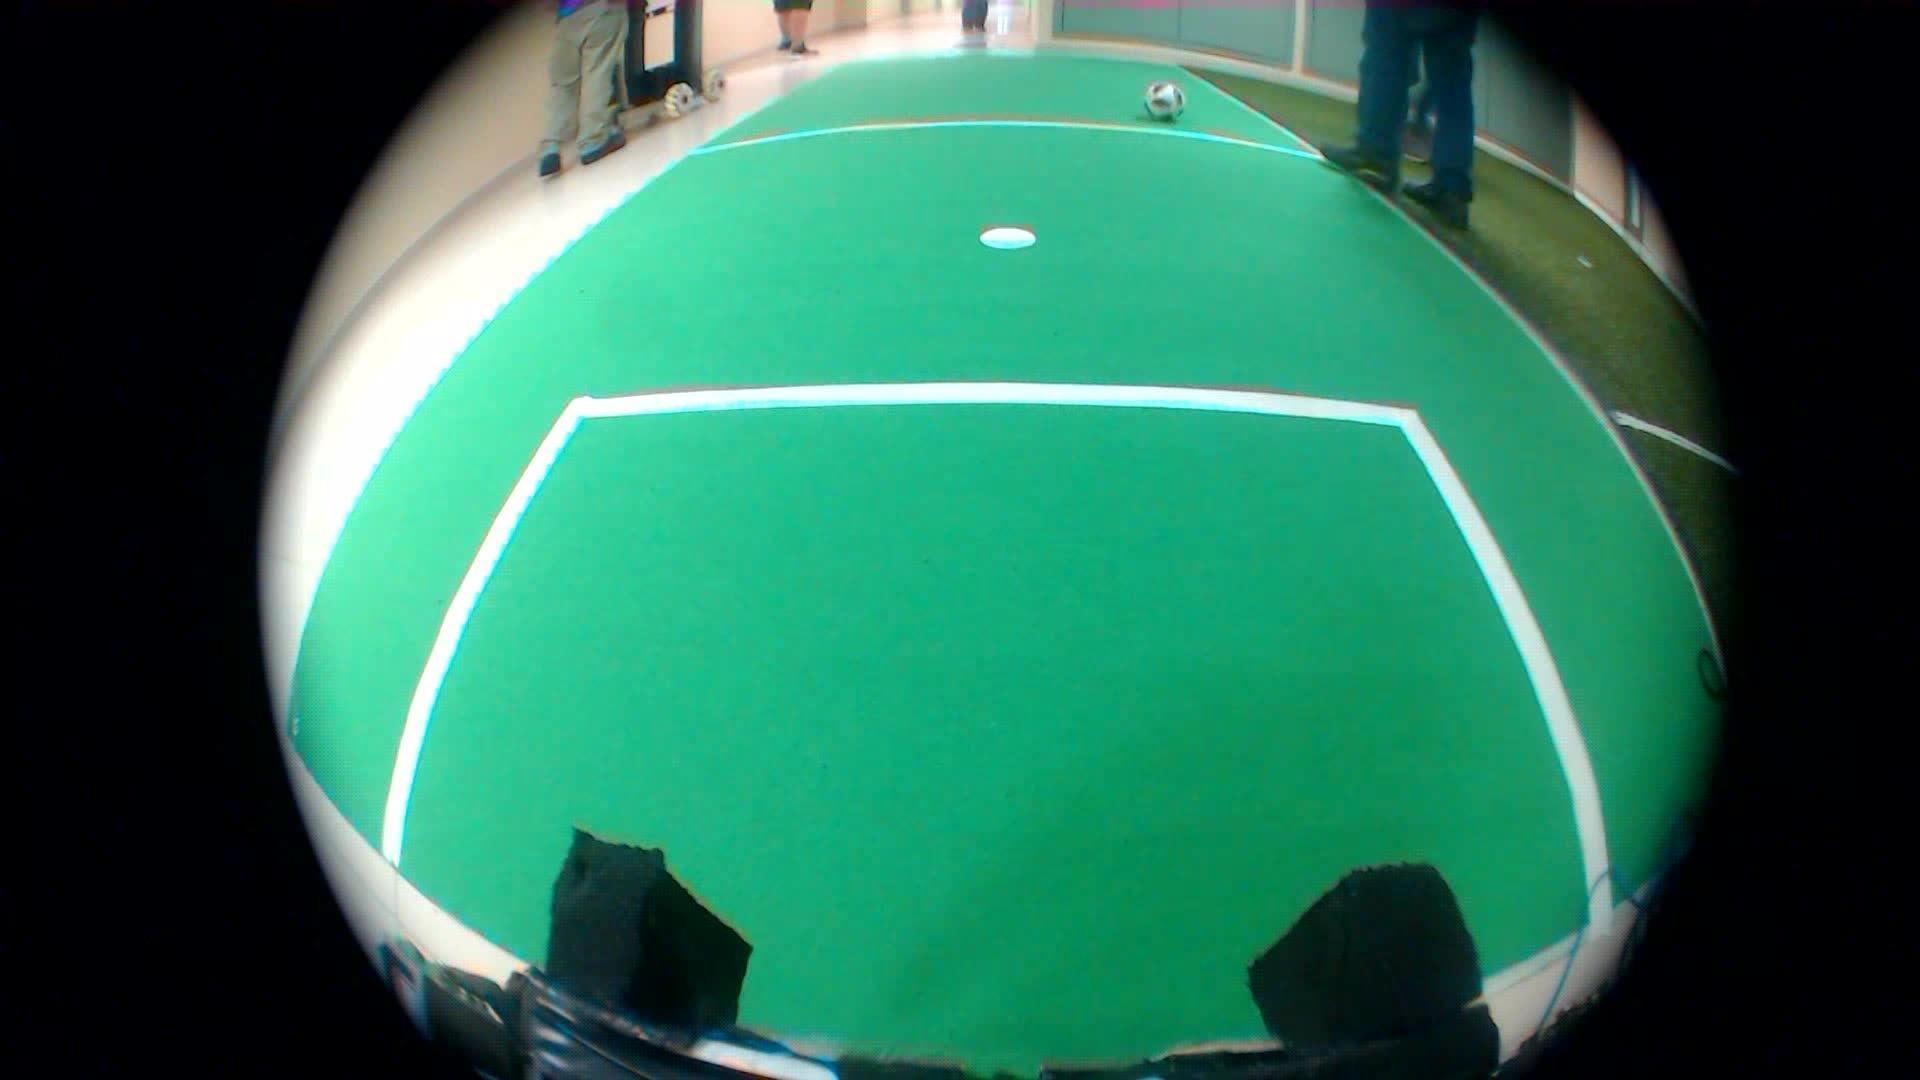ball: (1130, 73, 1193, 129)
